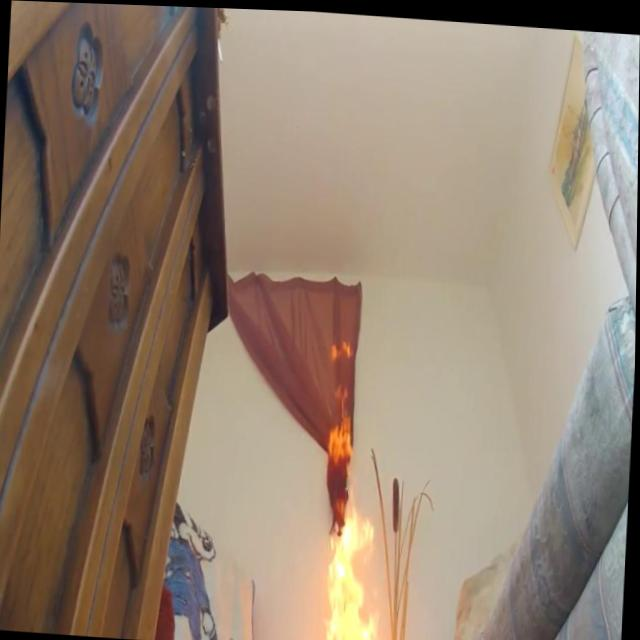fire: (321, 477, 389, 640), (326, 383, 358, 467), (328, 333, 353, 368)
